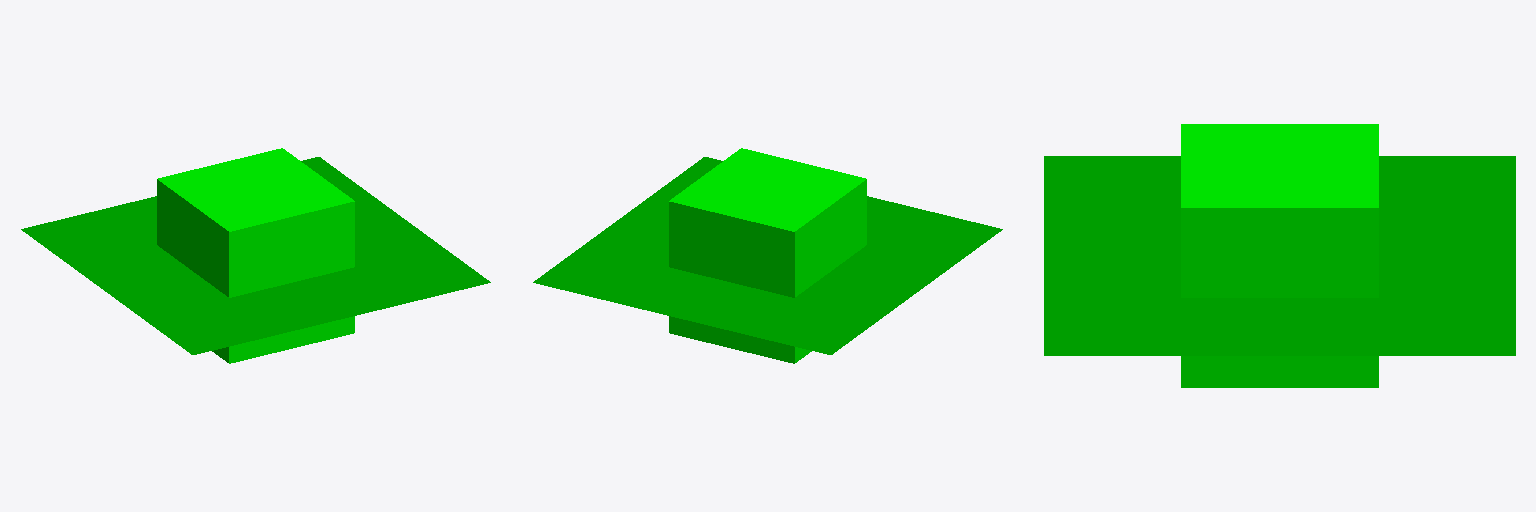
The robot description file, URDF, robot "cubeTargetIndicator.urdf":
<?xml version="1.0" ?>
<!-- =================================================================================== -->
<!-- |    This document was autogenerated by xacro from [local-path]/Documents/Courses/2020 IPAB_intern/RSS_Practical_Private/Completed_direction/RSS_Practical_2020/task3_2/lib/task_urdfs/task3_2_target.urdf | -->
<!-- |    EDITING THIS FILE BY HAND IS NOT RECOMMENDED                                 | -->
<!-- =================================================================================== -->
<robot name="cubeTargetIndicator.urdf" xmlns:xacro="http://ros.org/wiki/xacro">
  <!-- size in x direction -->
  <!-- size in y direction -->
  <!-- size in z direction -->
  <material name="red">
    <color rgba="1 0 0 0.5"/>
  </material>
  <material name="yellow">
    <color rgba="1 1 0 0.5"/>
  </material>
  <material name="green">
    <color rgba="0 1 0 .0"/>
  </material>
  <material name="dark_green">
    <color rgba="0 .7 0 .5"/>
  </material>
  <link name="base_link">
    <!-- target area plane -->
    <visual>
      <origin rpy="0 0 0" xyz="0 0 0.0"/>
      <geometry>
        <box size="0.213136 0.213136 0.0"/>
      </geometry>
      <material name="dark_green"/>
    </visual>
  </link>
  <!-- <link name="wall1">
        <visual>
            <origin rpy="0 0 0" xyz="0 0 0"/>
            <geometry>
                <box size="${wallThickness} ${targetAreaWidth} ${wallHeight}"/>
            </geometry>
            <material name="yellow" />
        </visual>
    </link>

    <link name="wall2">
        <visual>
            <origin rpy="0 0 ${pi/2}" xyz="0 0 0"/>
            <geometry>
                <box size="${wallThickness} ${targetAreaLength+wallThickness} ${wallHeight}"/>
            </geometry>
            <material name="yellow" />
        </visual>
    </link>

    <link name="wall3">
        <visual>
            <origin rpy="0 0 ${pi/2}" xyz="0 0 0"/>
            <geometry>
                <box size="${wallThickness} ${targetAreaLength+wallThickness} ${wallHeight}"/>
            </geometry>
            <material name="yellow" />
        </visual>
    </link> -->
  <link name="cube">
    <visual>
      <origin rpy="0 0 0" xyz="0 0 0"/>
      <geometry>
        <box size="0.09 0.09 0.09"/>
      </geometry>
      <material name="green"/>
    </visual>
  </link>
  <!-- <joint name="base_to_wall1" type="fixed">
        <parent link="base_link"/>
        <child link="wall1"/>
        <origin xyz="-${(targetAreaLength+wallThickness)/2} 0 ${targetAreaHeight/2}"/>
    </joint>        

    <joint name="base_to_wall2" type="fixed">
        <parent link="base_link"/>
        <child link="wall2"/>
        <origin xyz="-${wallThickness/2} -${(targetAreaWidth+wallThickness)/2} ${targetAreaHeight/2}"/>
    </joint>  
          
    <joint name="base_to_wall3" type="fixed">
        <parent link="base_link"/>
        <child link="wall3"/>
        <origin xyz="-${wallThickness/2} ${(targetAreaWidth+wallThickness)/2} ${targetAreaHeight/2}"/>
    </joint> -->
  <joint name="base_to_cube" type="fixed">
    <parent link="base_link"/>
    <child link="cube"/>
    <origin xyz="0 0 0"/>
  </joint>
</robot>

--- What the picture shows (computed from the rendered views, not written in the file) ---
The picture shows the robot from 3 angles, left to right: view 1: azimuth 30°, elevation 25°; view 2: azimuth 150°, elevation 25°; view 3: azimuth 270°, elevation 25°; orthographic projection.
Robot: cubeTargetIndicator.urdf — 2 links, 1 joints (1 fixed); root link base_link; default pose: every joint at zero.
Links seen in each view (by area): view 1: base_link, cube; view 2: base_link, cube; view 3: base_link, cube.
Boxes of the visible links, <box> form: base_link: <box>21,157,490,354</box>; cube: <box>157,148,354,363</box>; base_link: <box>533,157,1002,354</box>; cube: <box>669,148,866,363</box>; base_link: <box>1044,156,1515,355</box>; cube: <box>1181,124,1378,387</box>.
Bounding box of the posed robot: 0.2131 × 0.2131 × 0.09 m (x, y, z).
Geometry: primitives only (box / cylinder / sphere), no mesh files.
